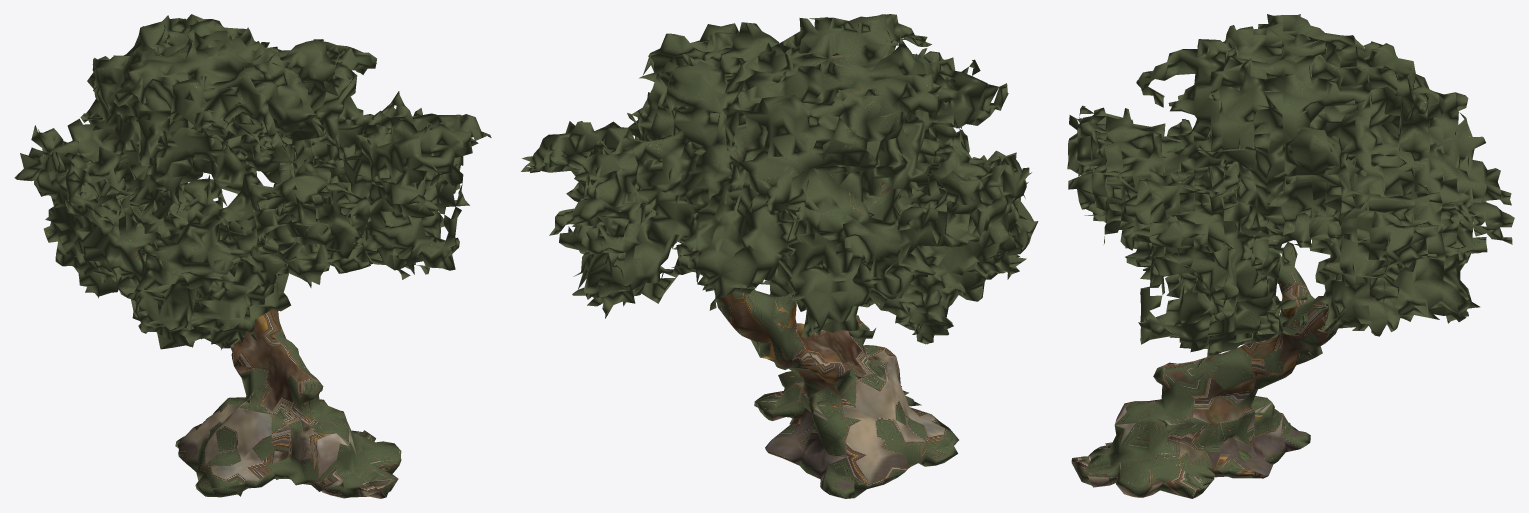
File: olive__ancient-olive-majesty.glb
3 views of the same model, side by side, from view 1: azimuth 30°, elevation 25°; view 2: azimuth 150°, elevation 25°; view 3: azimuth 270°, elevation 25° (orthographic). The views are drawn at different scales.
Bounding box in the file's own units: 1.96 × 1.99 × 1.97.
Materials: 1 (1 with a texture image).
